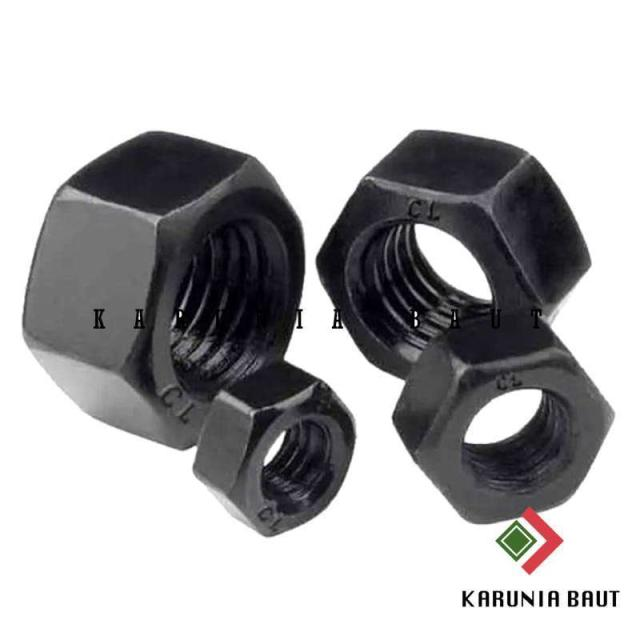Logam: (24, 97, 608, 581)
